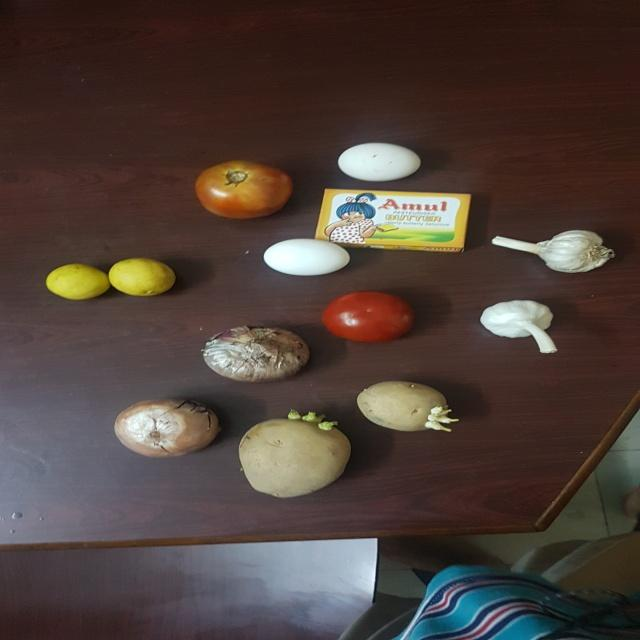butter: (311, 182, 476, 253)
eggs: (261, 232, 351, 280), (335, 138, 426, 181)
garlic: (487, 219, 614, 277), (476, 289, 568, 357)
lemon: (106, 255, 178, 296), (43, 260, 109, 303)
onion: (111, 396, 222, 459), (197, 322, 312, 382)
potato: (229, 407, 357, 500), (354, 376, 461, 438)
tomato: (188, 154, 293, 220), (321, 284, 424, 343)
